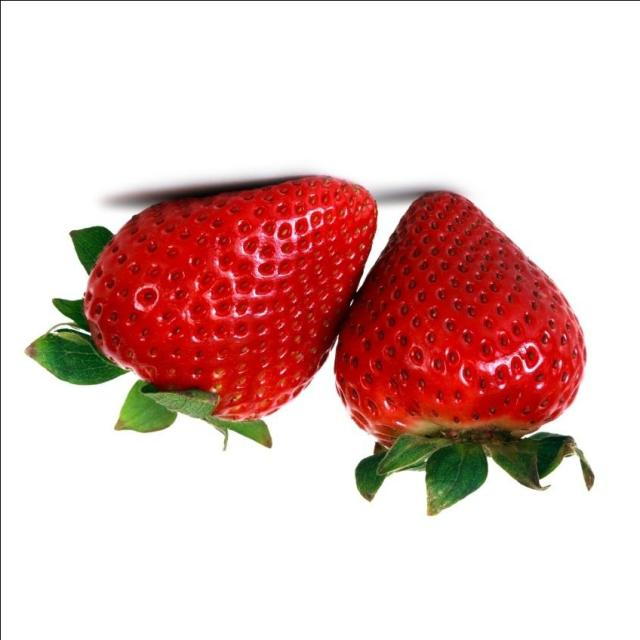strawberry: (328, 174, 622, 523)
